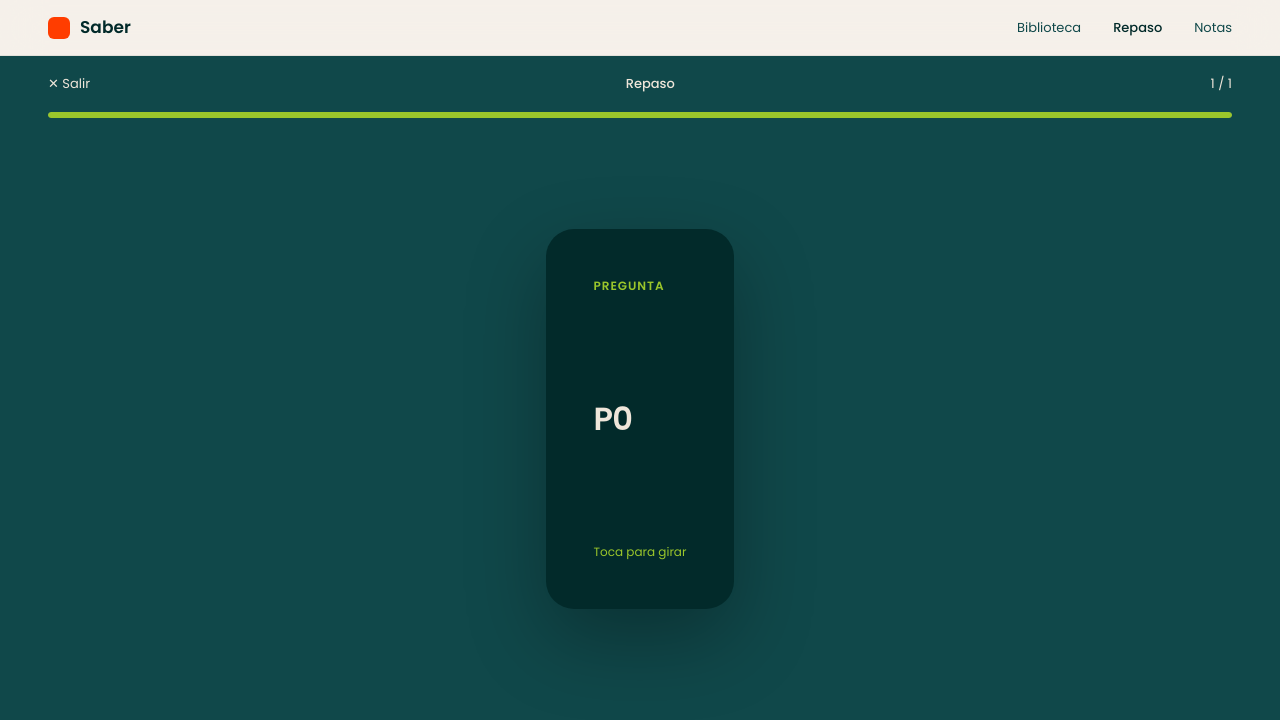
Scenario: ReviewPage › re-queues a card graded again
The width and height of the screenshot is (1280, 720).
Click the button "Pregunta P0 Toca para girar" at (640, 419), box [546,229,734,609]
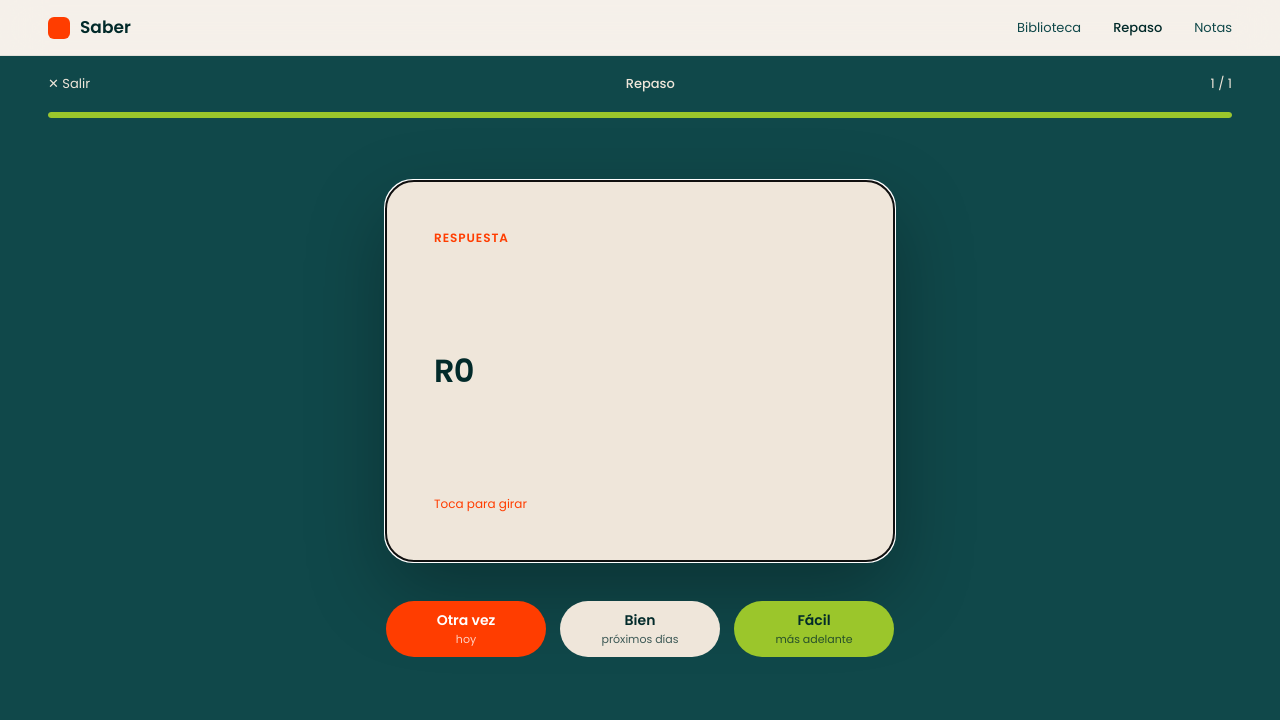
Click the button "Otra vez hoy" at (466, 629), box [386,601,546,657]
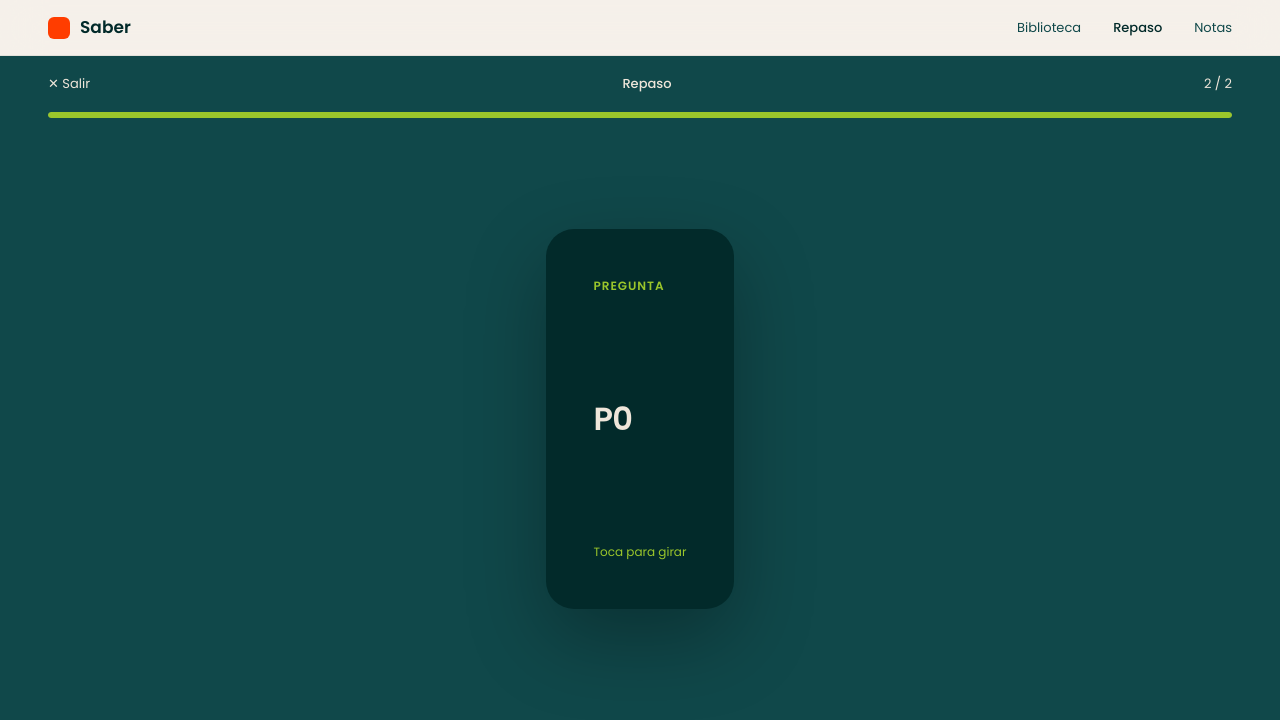
Check: the text "P0" is shown, box [594,399,632,439]
Check: the text "2 / 2" is shown, box [1204,74,1232,94]
